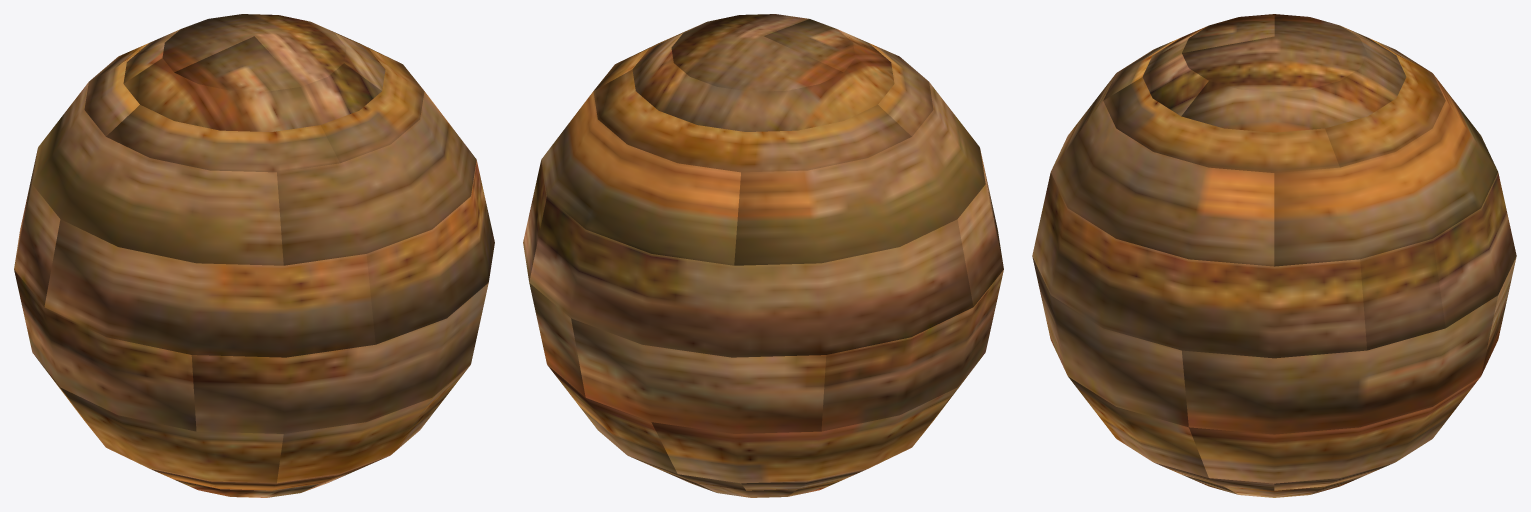
The model's file is wood_parts.glb.
3 renders of one model, left to right at view 1: azimuth 30°, elevation 25°; view 2: azimuth 150°, elevation 25°; view 3: azimuth 270°, elevation 25°, orthographic.
Visible parts, largest first — view 1: wood_ball_parts.003, wood_ball_parts.001, wood_ball_parts.005, wood_ball_parts.004, wood_ball_parts.006, wood_ball_parts.007, wood_ball_parts.016, wood_ball_parts.020, wood_ball_parts.014, wood_ball_parts.015, wood_ball_parts.021, wood_ball_parts.012 (+6 smaller); view 2: wood_ball_parts.002, wood_ball_parts.001, wood_ball_parts.011, wood_ball_parts.010, wood_ball_parts.013, wood_ball_parts.020, wood_ball_parts.006, wood_ball_parts.017, wood_ball_parts.015, wood_ball_parts.003, wood_ball_parts.016, wood_ball_parts.009 (+7 smaller); view 3: wood_ball_parts.007, wood_ball_parts.008, wood_ball_parts.004, wood_ball_parts.011, wood_ball_parts.009, wood_ball_parts.005, wood_ball_parts.012, wood_ball_parts.017, wood_ball_parts.015, wood_ball_parts.002, wood_ball_parts.019, wood_ball_parts.013 (+7 smaller).
Boxes of the visible parts, bbox=[...] form: wood_ball_parts.003: bbox=[44, 219, 375, 357]; wood_ball_parts.001: bbox=[32, 82, 283, 265]; wood_ball_parts.005: bbox=[191, 283, 488, 433]; wood_ball_parts.004: bbox=[277, 91, 476, 265]; wood_ball_parts.006: bbox=[14, 270, 196, 431]; wood_ball_parts.007: bbox=[366, 160, 494, 344]; wood_ball_parts.016: bbox=[124, 58, 381, 131]; wood_ball_parts.020: bbox=[35, 356, 283, 483]; wood_ball_parts.014: bbox=[106, 105, 339, 172]; wood_ball_parts.015: bbox=[162, 14, 346, 86]; wood_ball_parts.021: bbox=[277, 365, 470, 483]; wood_ball_parts.012: bbox=[320, 35, 424, 162]; wood_ball_parts.002: bbox=[529, 196, 973, 357]; wood_ball_parts.001: bbox=[734, 82, 985, 265]; wood_ball_parts.011: bbox=[541, 91, 740, 265]; wood_ball_parts.010: bbox=[571, 318, 826, 433]; wood_ball_parts.013: bbox=[593, 69, 911, 172]; wood_ball_parts.020: bbox=[651, 356, 982, 483]; wood_ball_parts.006: bbox=[821, 270, 1003, 431]; wood_ball_parts.017: bbox=[632, 24, 843, 131]; wood_ball_parts.015: bbox=[671, 14, 843, 91]; wood_ball_parts.003: bbox=[957, 150, 1003, 306]; wood_ball_parts.016: bbox=[820, 29, 894, 120]; wood_ball_parts.009: bbox=[547, 365, 677, 473]; wood_ball_parts.007: bbox=[1032, 172, 1366, 358]; wood_ball_parts.008: bbox=[1182, 295, 1497, 434]; wood_ball_parts.004: bbox=[1051, 74, 1274, 266]; wood_ball_parts.011: bbox=[1274, 74, 1497, 266]; wood_ball_parts.009: bbox=[1189, 376, 1480, 483]; wood_ball_parts.005: bbox=[1032, 256, 1188, 427]; wood_ball_parts.012: bbox=[1103, 77, 1339, 172]; wood_ball_parts.017: bbox=[1181, 26, 1406, 132]; wood_ball_parts.015: bbox=[1182, 14, 1366, 92]; wood_ball_parts.002: bbox=[1433, 172, 1516, 327]; wood_ball_parts.019: bbox=[1360, 239, 1445, 350]; wood_ball_parts.013: bbox=[1325, 38, 1445, 167].
Size of the model in its own units: 2 by 2 by 2.
1 material, 1 textured.
